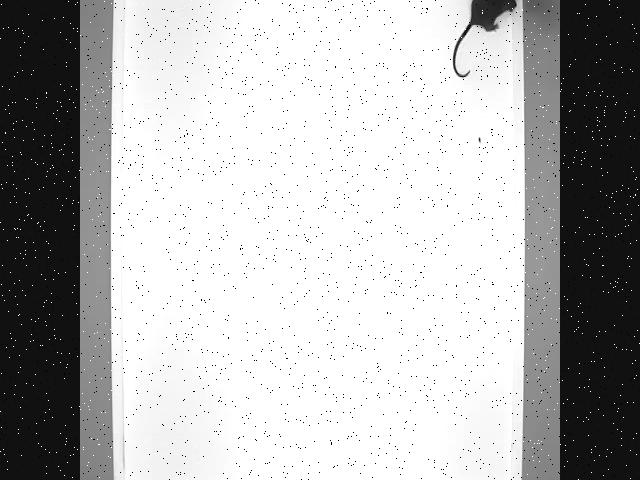Tikus: (449, 0, 519, 79)
